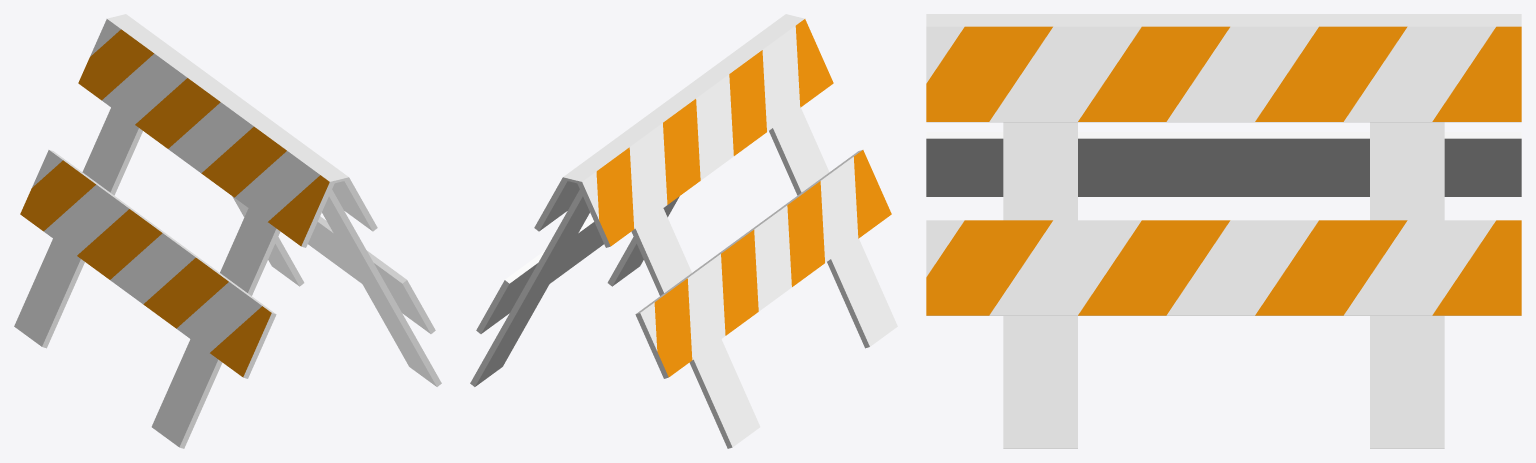
File: ConstructionSign.fbx
3 views of the same model, side by side, from view 1: azimuth 30°, elevation 25°; view 2: azimuth 150°, elevation 25°; view 3: azimuth 270°, elevation 25° (orthographic). The views are drawn at different scales.
Parts seen in each view (by area): view 1: Model; view 2: Model; view 3: Model.
Boxes of the visible parts, <box> form: Model: <box>14,14,441,448</box>; Model: <box>470,14,897,448</box>; Model: <box>926,14,1521,448</box>.
Bounding box in the file's own units: 12.1 × 11.43 × 17.8.
